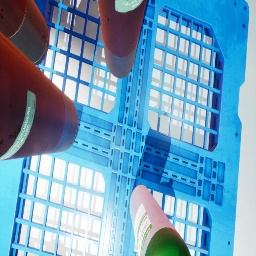0: (130, 184, 191, 256), (136, 251, 138, 256)
NitrogenTank ,: (0, 31, 78, 161), (97, 0, 147, 79), (0, 0, 50, 66)
